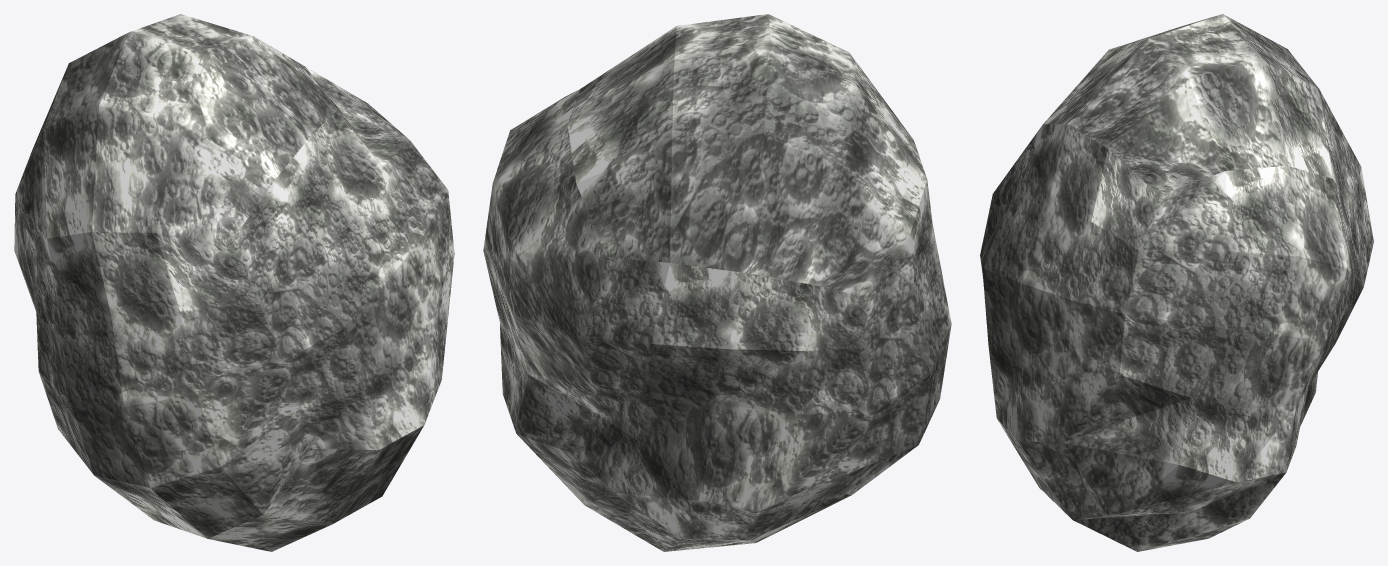
Rendered from asteroid.obj.
3 renders of one model, left to right at view 1: azimuth 30°, elevation 25°; view 2: azimuth 150°, elevation 25°; view 3: azimuth 270°, elevation 25°, orthographic. The views are drawn at different scales.
Parts seen in each view (by area): view 1: asteroid; view 2: asteroid; view 3: asteroid.
Part boxes in pixels (x1=…): asteroid: x1=14, y1=14, x2=454, y2=551; asteroid: x1=483, y1=14, x2=951, y2=551; asteroid: x1=980, y1=14, x2=1373, y2=551.
Bounding box in the file's own units: 81.32 × 103 × 77.7.
